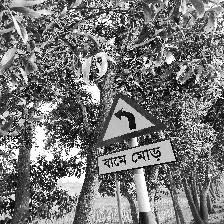Left-Turn: (95, 92, 178, 177)
